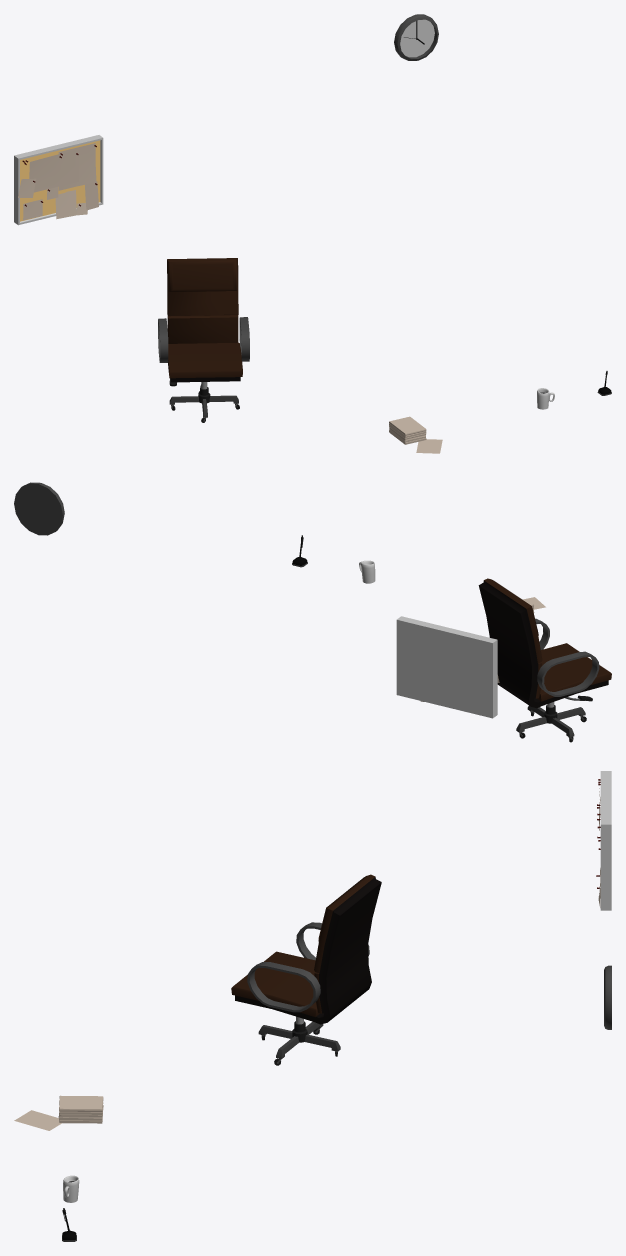
The model's file is Props.fbx.
The picture shows the model from 3 angles, top to bottom: view 1: azimuth 30°, elevation 25°; view 2: azimuth 150°, elevation 25°; view 3: azimuth 270°, elevation 25°; orthographic projection. The views are drawn at different scales.
Parts seen in each view (by area): view 1: Cube.021, Cube.11647, Cylinder, Cube.011; view 2: Cube.021, Cube.11647, Cylinder; view 3: Cube.021, Cube.11647, Cube.011.
Boxes of the visible parts, x1,y1,x2,y2 form: Cube.021: [158, 258, 249, 422]; Cube.11647: [14, 135, 103, 225]; Cylinder: [394, 14, 438, 60]; Cube.011: [389, 416, 426, 444]; Cube.021: [478, 578, 611, 742]; Cube.11647: [396, 616, 499, 718]; Cylinder: [14, 482, 64, 535]; Cube.021: [231, 874, 381, 1065]; Cube.11647: [596, 771, 611, 910]; Cube.011: [58, 1095, 103, 1123].
Size of the model in its own units: 5377 by 2722 by 5084.
